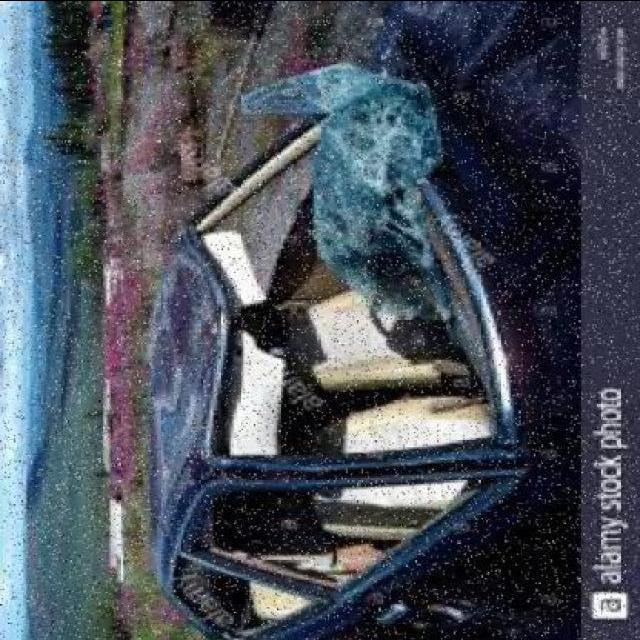Front-Windscreen-Damage: (200, 95, 477, 452)
pillar-dent: (223, 443, 517, 495)
roof-dent: (134, 217, 224, 608)
